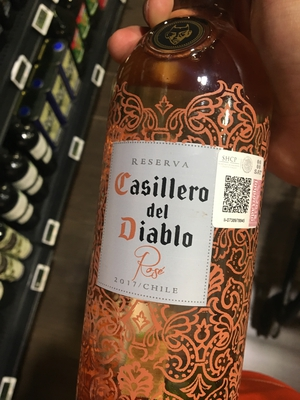casillero del diablo rose: (80, 15, 270, 400)
